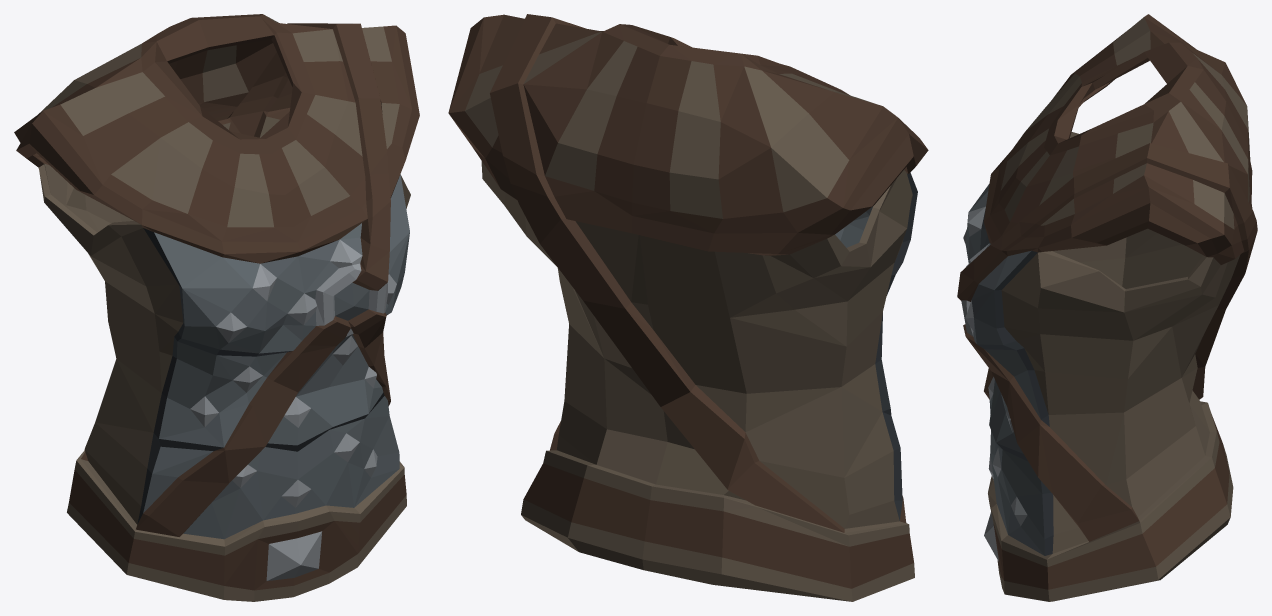
File: Chr_Torso_Female_12_Drop.fbx
3 renders of one model, left to right at view 1: azimuth 30°, elevation 25°; view 2: azimuth 150°, elevation 25°; view 3: azimuth 270°, elevation 25°, orthographic. The views are drawn at different scales.
Parts seen in each view (by area): view 1: Chr_Torso_Female_12_Static; view 2: Chr_Torso_Female_12_Static; view 3: Chr_Torso_Female_12_Static.
Part boxes in pixels (<box>): Chr_Torso_Female_12_Static: <box>14,14,419,601</box>; Chr_Torso_Female_12_Static: <box>448,14,928,601</box>; Chr_Torso_Female_12_Static: <box>957,14,1257,601</box>.
Bounding box in the file's own units: 51.72 × 66.42 × 35.67.
